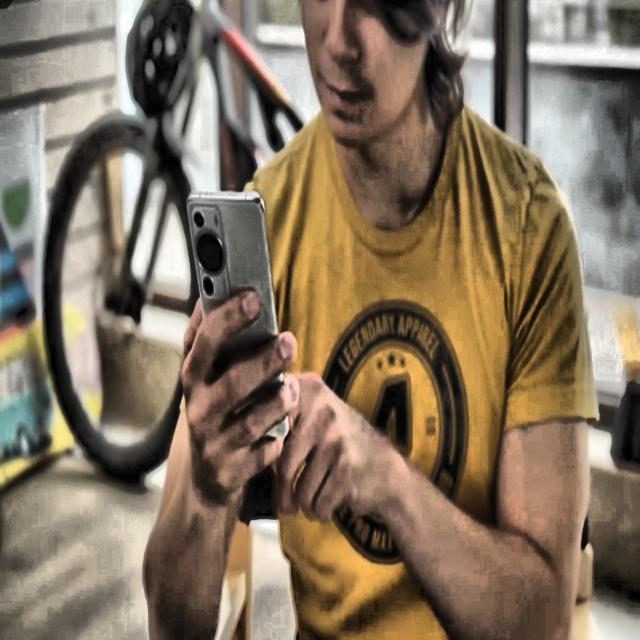Phone: (186, 188, 289, 443)
